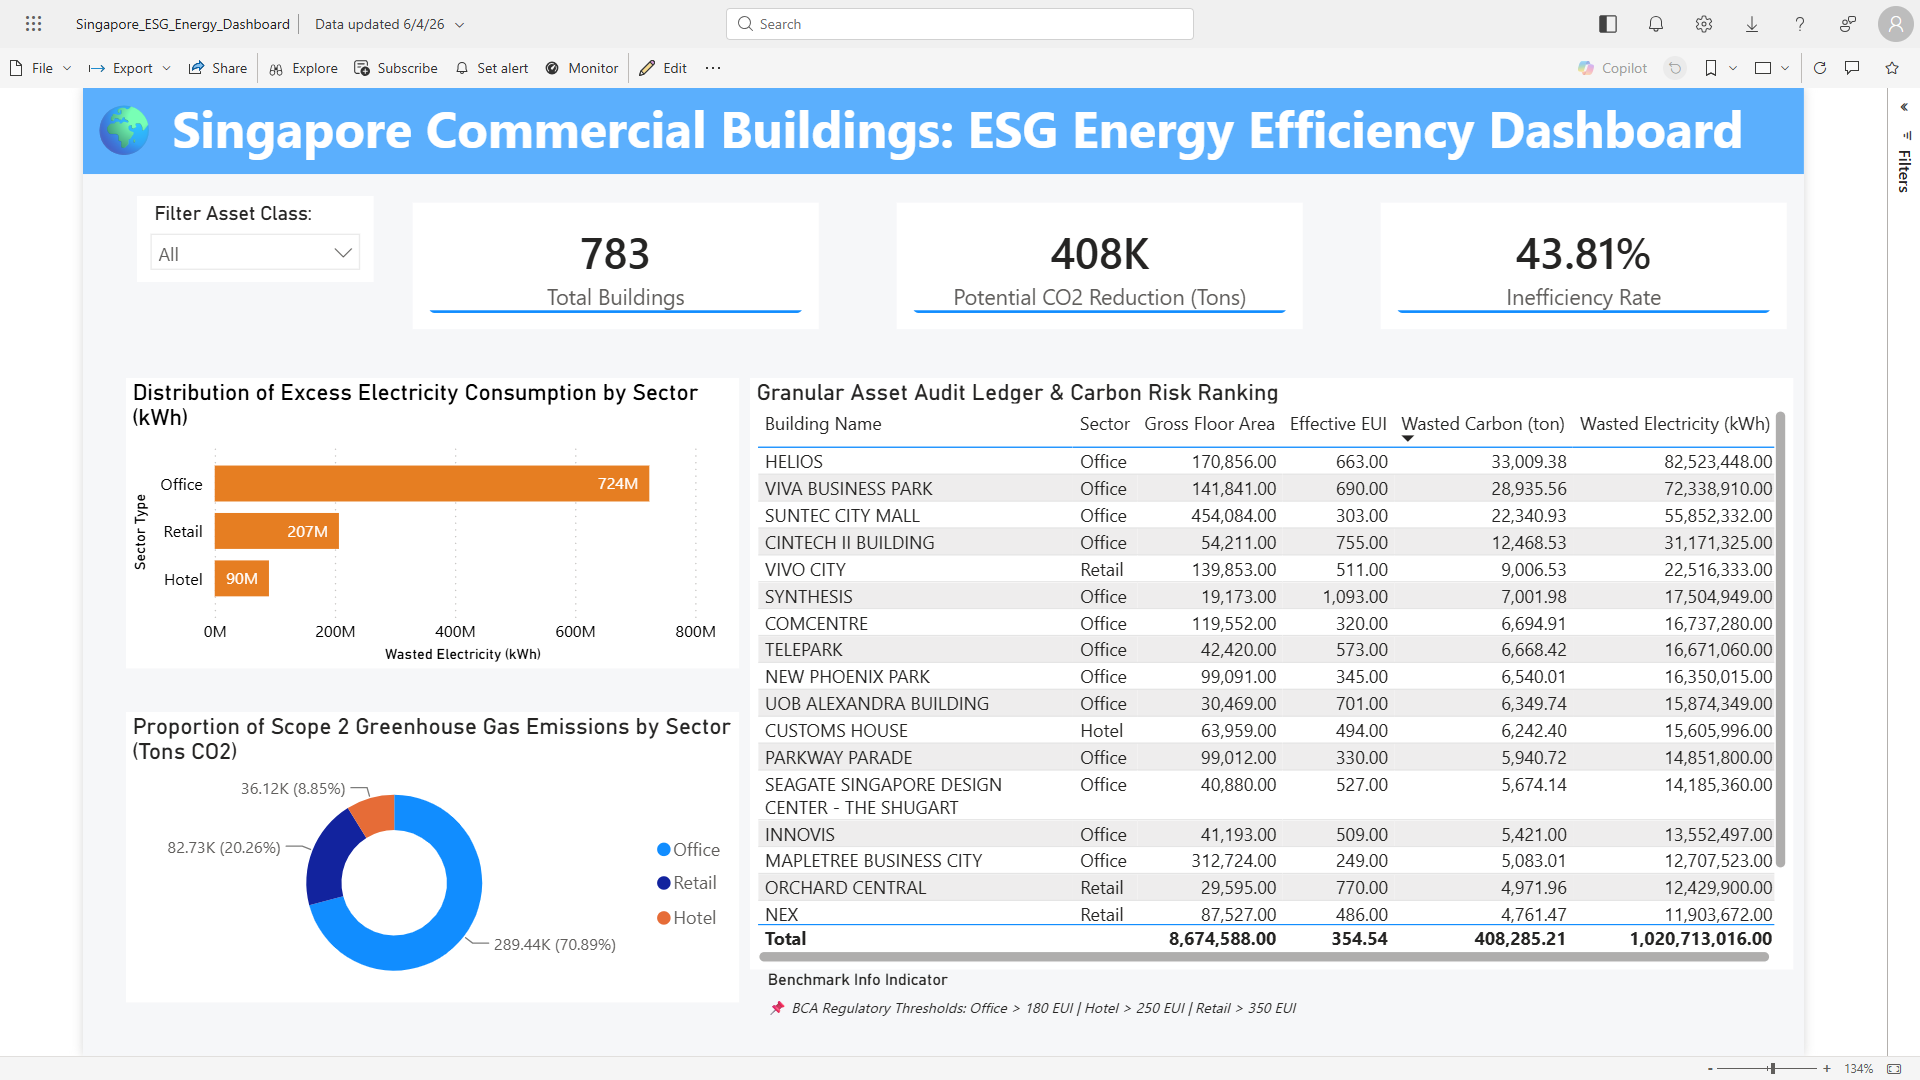

This screenshot's page, from the dashboard's own definition file:
{"tool":"powerbi","page":{"name":"ESG Dashboard","canvas":[1280,720],"ordinal":0},"visuals":[{"type":"shape","box":[0,0,1280,64],"z":0},{"type":"cardVisual","fields":{"Data":["Sum(sg_energy_clean.Wasted_Carbon_Tons)"]},"box":[600,80,312,104],"z":1000},{"type":"clusteredBarChart","title":"Distribution of Excess Electricity Consumption by Sector (kWh)","fields":{"Category":["sg_energy_clean.building_type"],"Y":["Sum(sg_energy_clean.Wasted_kWh)"]},"box":[32,216,456,216],"z":2000},{"type":"tableEx","title":"Granular Asset Audit Ledger & Carbon Risk Ranking","fields":{"Values":["sg_energy_clean.building_name","sg_energy_clean.building_type","Sum(sg_energy_clean.gross_floor_area)","Avg(sg_energy_clean.effective_eui)","Sum(sg_energy_clean.Wasted_Carbon_Tons)","Sum(sg_energy_clean.Wasted_kWh)"]},"box":[496,216,776,440],"z":3000},{"type":"textbox","box":[0,0,1920,64],"z":4000},{"type":"donutChart","title":"Proportion of Scope 2 Greenhouse Gas Emissions by Sector (Tons CO2)","fields":{"Category":["sg_energy_clean.building_type"],"Y":["Sum(sg_energy_clean.Wasted_Carbon_Tons)"]},"box":[32,464,456,216],"z":5000},{"type":"cardVisual","fields":{"Data":["sg_energy_clean.buildings_count"]},"box":[240,80,312,104],"z":6000},{"type":"slicer","fields":{"Values":["sg_energy_clean.building_type"]},"box":[40,80,176,64],"z":7000},{"type":"cardVisual","fields":{"Data":["sg_energy_clean.Inefficiency_Rate"]},"box":[960,80,312,104],"z":8000},{"type":"textbox","title":"Benchmark Info Indicator","box":[504,656,512,40],"z":9000}]}

Visuals, with their boxes on the page's 1280x720 design canvas (x1, y1, x2, y2). These are canvas units, not pixel positions in the 1920x1080 screenshot, which may show the page scaled, cropped or inside an application window:
shape: (0, 0, 1280, 64)
cardVisual - Sum(sg_energy_clean.Wasted_Carbon_Tons): (600, 80, 912, 184)
"Distribution of Excess Electricity Consumption by Sector (kWh)" clusteredBarChart: (32, 216, 488, 432)
"Granular Asset Audit Ledger & Carbon Risk Ranking" tableEx: (496, 216, 1272, 656)
textbox: (0, 0, 1920, 64)
"Proportion of Scope 2 Greenhouse Gas Emissions by Sector (Tons CO2)" donutChart: (32, 464, 488, 680)
cardVisual - sg_energy_clean.buildings_count: (240, 80, 552, 184)
slicer - sg_energy_clean.building_type: (40, 80, 216, 144)
cardVisual - sg_energy_clean.Inefficiency_Rate: (960, 80, 1272, 184)
"Benchmark Info Indicator" textbox: (504, 656, 1016, 696)
